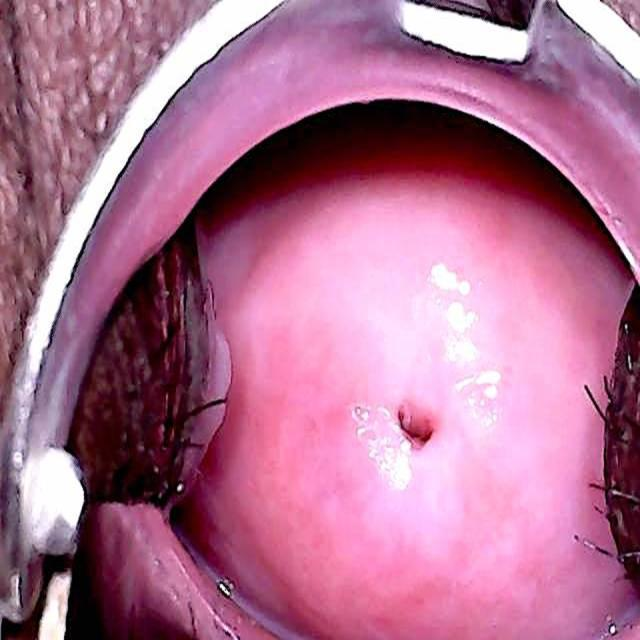cervical_lesion: (325, 238, 520, 535)
